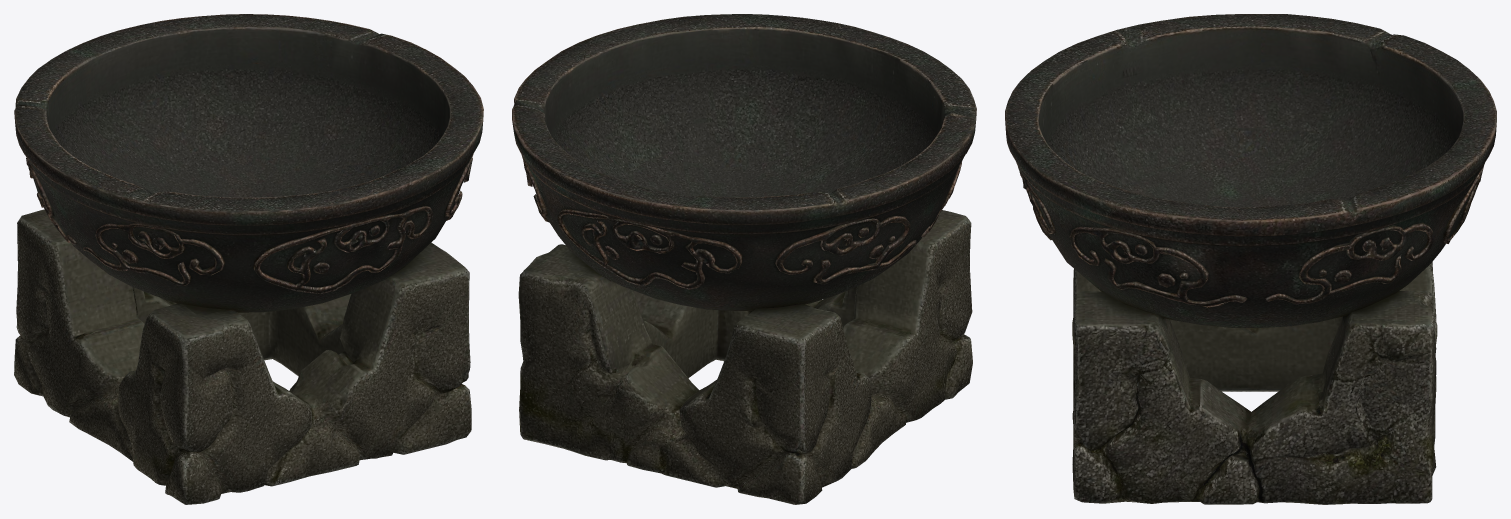
The model's file is tripo_convert_a9fad66d-d0de-4265-b362-f4905f9f8d2f.fbx.
3 renders of one model, left to right at view 1: azimuth 30°, elevation 25°; view 2: azimuth 150°, elevation 25°; view 3: azimuth 270°, elevation 25°, orthographic. The views are drawn at different scales.
Visible parts, largest first — view 1: tripo_node_a9fad66d; view 2: tripo_node_a9fad66d; view 3: tripo_node_a9fad66d.
Part boxes in pixels (x1,y1,x2,y2): tripo_node_a9fad66d: [14, 14, 483, 504]; tripo_node_a9fad66d: [512, 14, 976, 504]; tripo_node_a9fad66d: [1005, 14, 1496, 504].
Size of the model in its own units: 0.998 by 0.709 by 0.998.
1 material, 1 textured.
